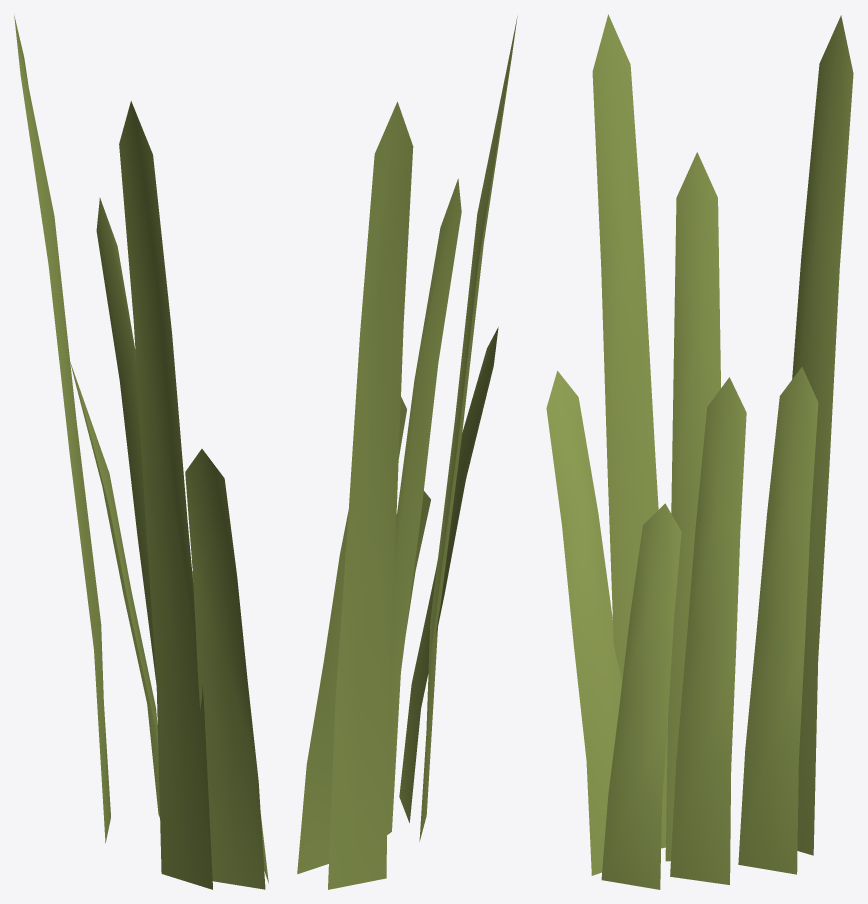
The model's file is FBX_Grass_02.fbx.
3 views of the same model, side by side, from view 1: azimuth 30°, elevation 25°; view 2: azimuth 150°, elevation 25°; view 3: azimuth 270°, elevation 25° (orthographic). The views are drawn at different scales.
Visible parts, largest first — view 1: pPlane16; view 2: pPlane16; view 3: pPlane16.
Boxes of the visible parts, <box> form: pPlane16: <box>14,14,268,889</box>; pPlane16: <box>297,16,517,889</box>; pPlane16: <box>546,14,853,889</box>.
Bounding box in the file's own units: 5.44 × 26.72 × 9.28.
